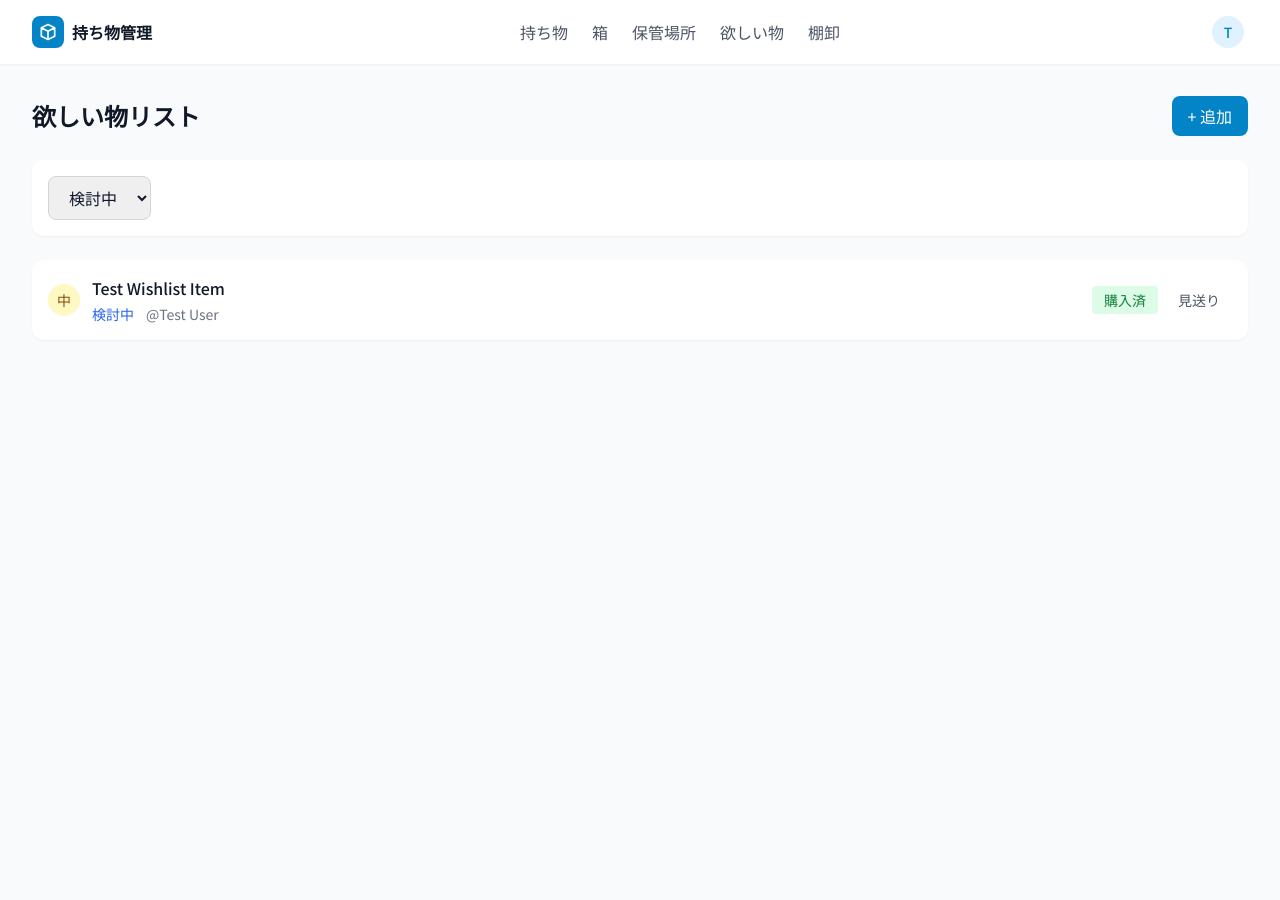
Test: WishlistPage › should open purchase modal when clicking purchase button
The image size is (1280, 900).
Expected: the text "Test Wishlist Item" is shown, x1=92 y1=276 x2=225 y2=300
Step 1. Click the button "購入済" → [1125, 300], box x1=1092 y1=286 x2=1158 y2=314
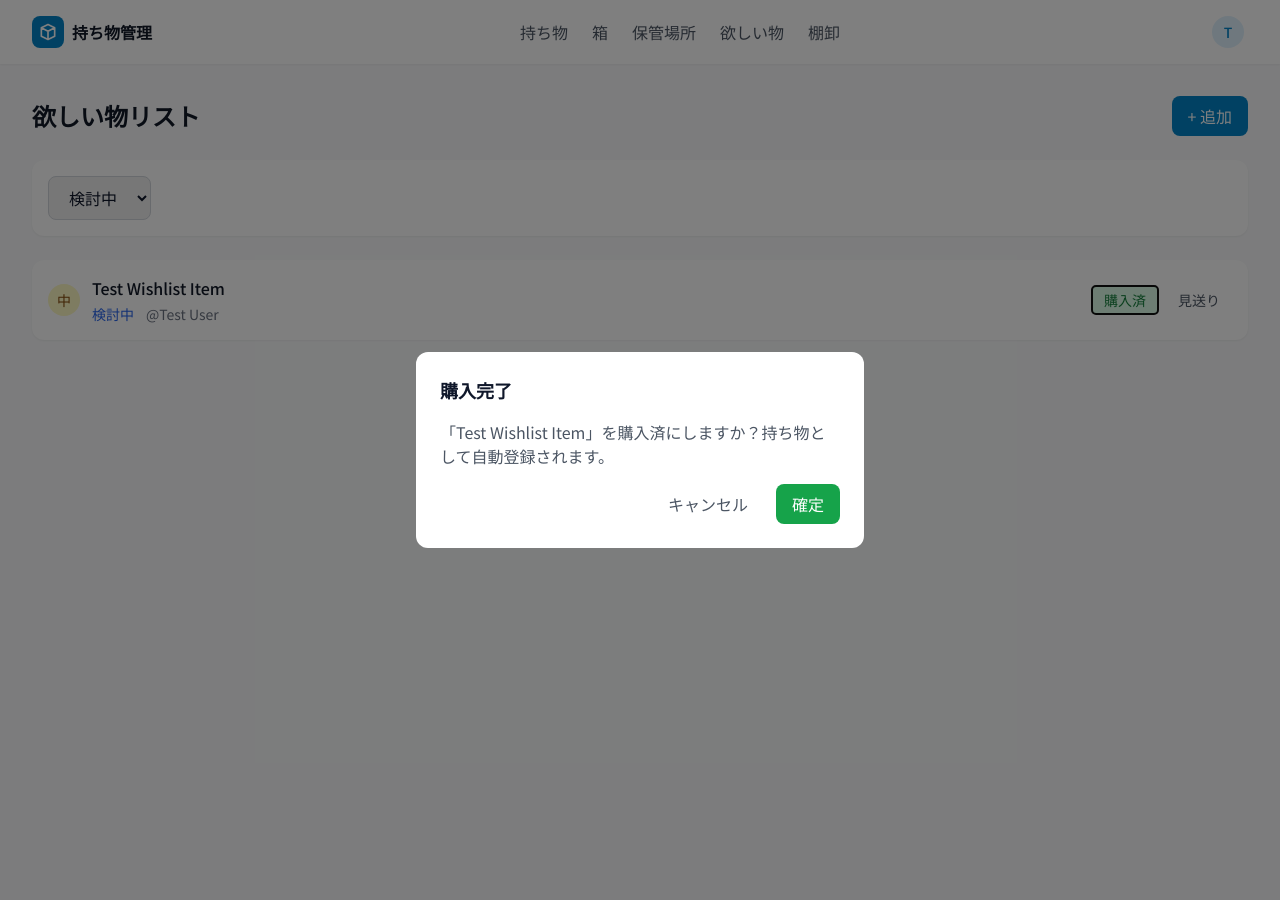
Expected: the heading "購入完了" is shown, x1=440 y1=377 x2=512 y2=403
